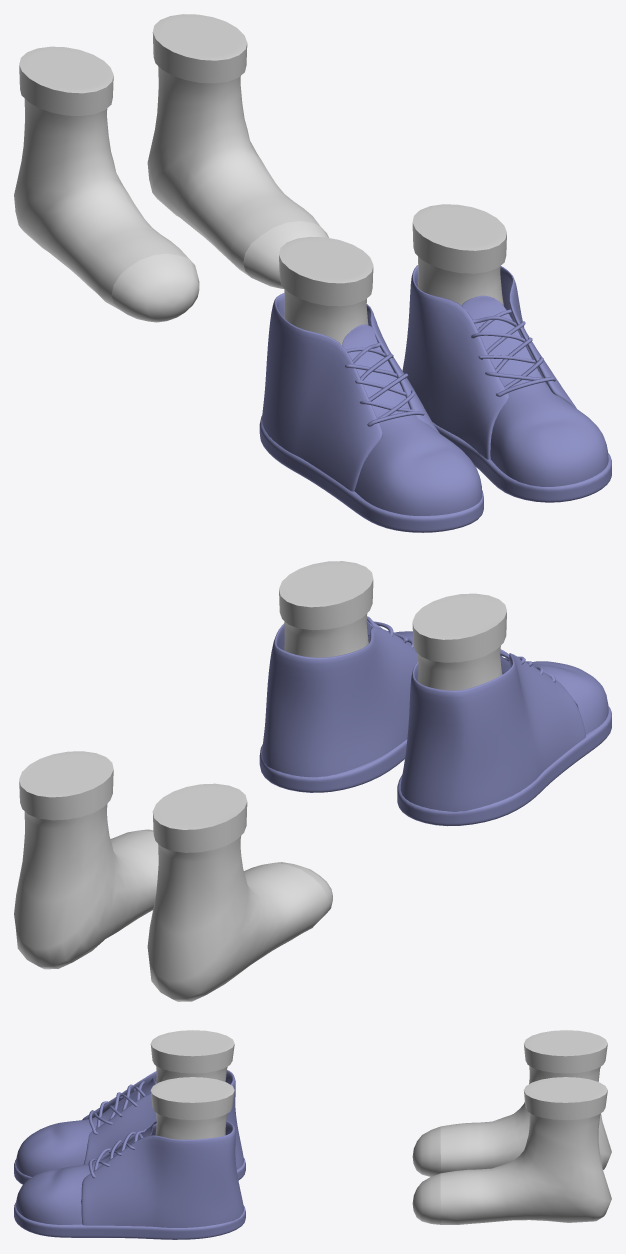
The model's file is Socks and Shoes.fbx.
3 views of the same model, one above another, from view 1: azimuth 30°, elevation 25°; view 2: azimuth 150°, elevation 25°; view 3: azimuth 270°, elevation 25° (orthographic). The views are drawn at different scales.
Visible parts, largest first — view 1: Left_Foot (×2), pCylinder4, pCylinder3, pCylinder2 (×2); view 2: Left_Foot (×2), pCylinder4, pCylinder3, pCylinder2 (×2); view 3: Left_Foot (×2), pCylinder3, pCylinder4, pCylinder2 (×2).
Boxes of the visible parts, x1,y1,x2,y2 form: Left_Foot (×2): (259,265,611,532); pCylinder4: (14,46,199,322); pCylinder3: (147,14,328,288); pCylinder2 (×2): (279,204,506,432); Left_Foot (×2): (259,616,611,826); pCylinder4: (147,783,332,1001); pCylinder3: (14,751,158,969); pCylinder2 (×2): (279,561,506,690); Left_Foot (×2): (14,1070,245,1239); pCylinder3: (412,1077,611,1224); pCylinder4: (412,1030,611,1176); pCylinder2 (×2): (150,1030,234,1139).
Size of the model in its own units: 1.72 by 1.19 by 4.95.
